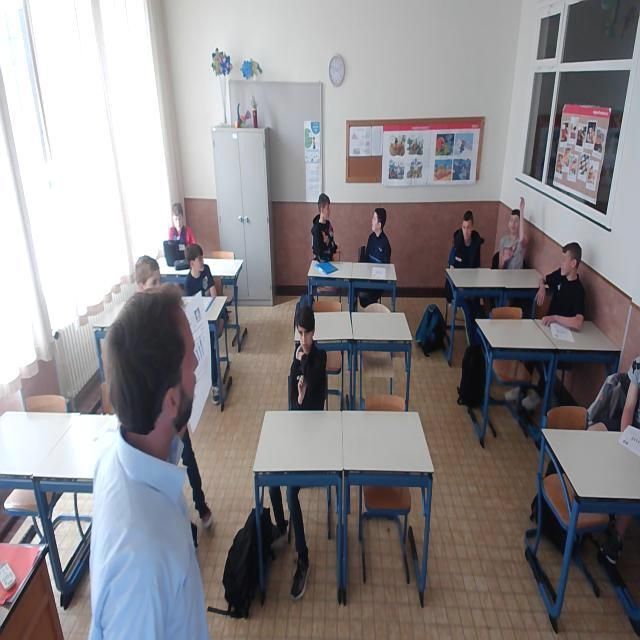Looking away: (540, 226, 599, 332), (183, 247, 216, 284), (313, 189, 340, 231), (367, 207, 390, 240)
Looking forward: (294, 304, 323, 352), (171, 200, 189, 233), (461, 210, 477, 246)
Raising hand: (494, 198, 528, 274)
